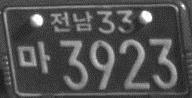2: (118, 37, 151, 92)
3: (147, 36, 178, 89), (58, 38, 88, 90), (95, 9, 115, 33), (116, 9, 135, 33)
9: (88, 37, 116, 91)
마: (16, 39, 51, 75)
전남_O: (49, 10, 92, 33)
